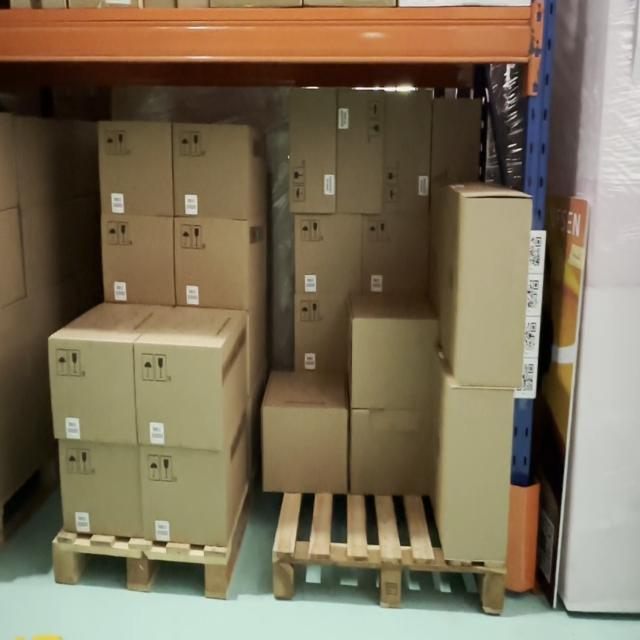box: (459, 197, 533, 389), (449, 390, 515, 564), (49, 343, 136, 442), (136, 349, 222, 445), (140, 449, 225, 545), (264, 404, 347, 498), (176, 218, 248, 312), (354, 409, 432, 495), (175, 124, 247, 216), (61, 448, 139, 529), (354, 320, 430, 402), (105, 219, 175, 306), (297, 215, 367, 300), (102, 126, 169, 213), (291, 88, 338, 209), (384, 95, 432, 211), (340, 91, 382, 215), (367, 217, 429, 298)
